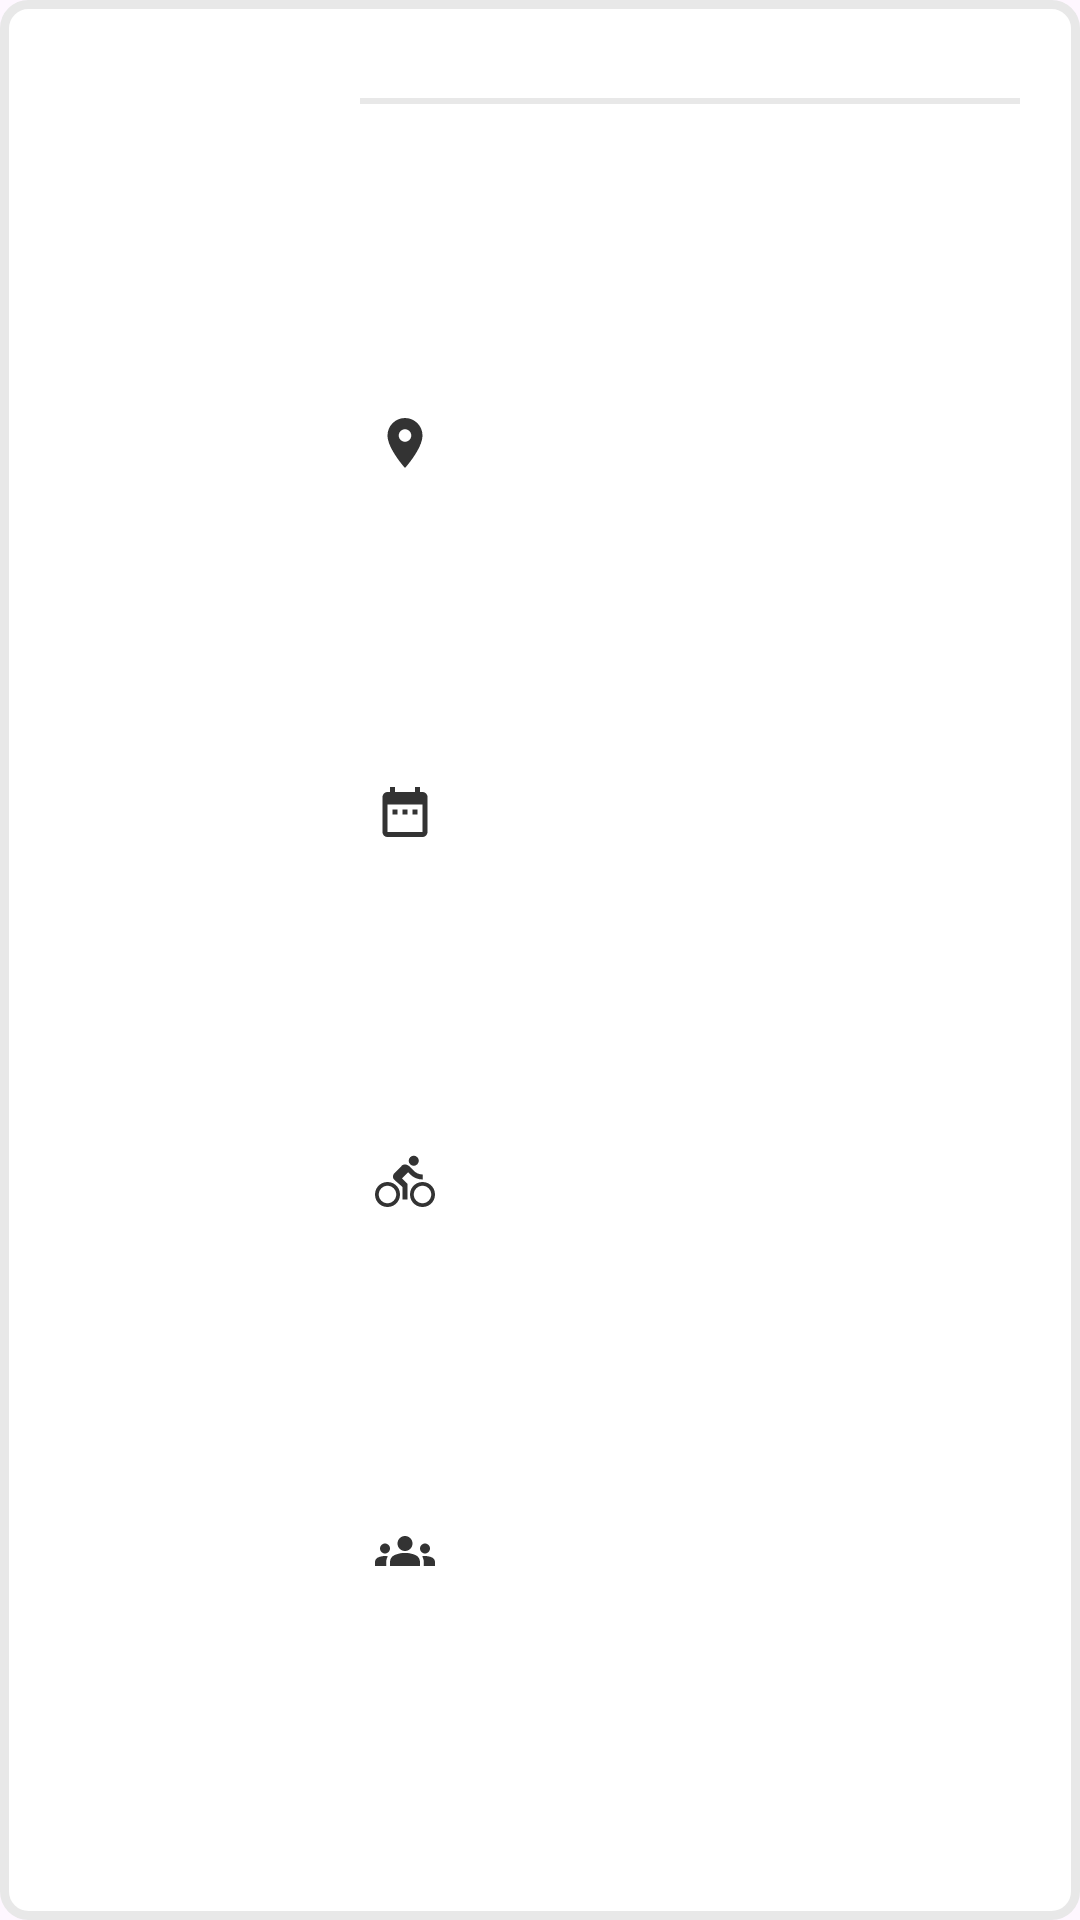

Icon bounding boxes for this 1080px x 1920px phone screenshot, format bbox=[x1, y1, x2, y2]:
date range: bbox=[382, 787, 428, 837]
directions bike: bbox=[375, 1155, 435, 1207]
groups: bbox=[375, 1536, 435, 1566]
place: bbox=[387, 418, 423, 468]
